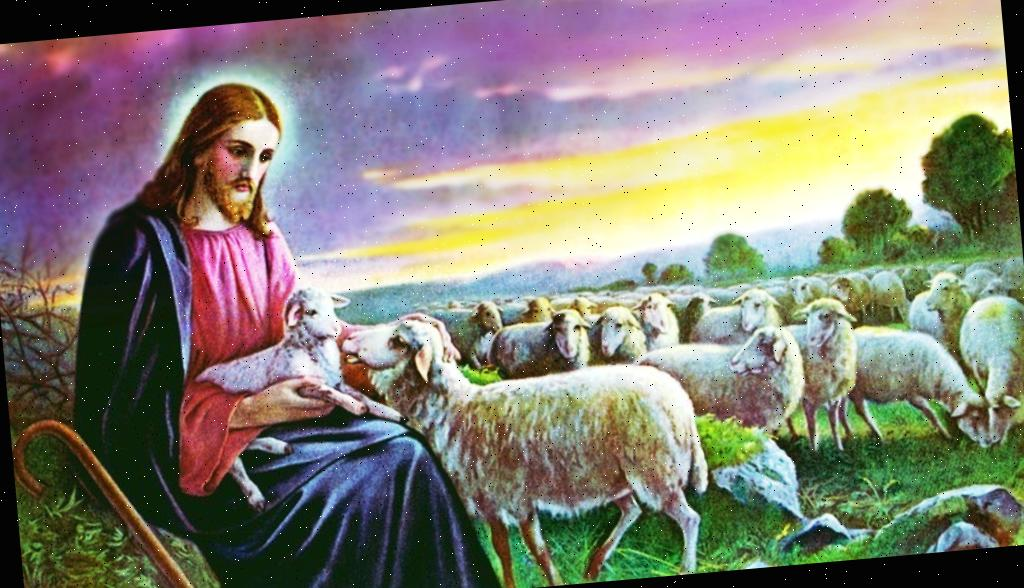Sheep: (339, 288, 711, 568), (185, 276, 415, 526), (668, 307, 814, 436), (854, 324, 994, 449), (953, 291, 1024, 443), (786, 294, 866, 428), (482, 302, 592, 384), (904, 269, 978, 360), (688, 286, 786, 346), (426, 299, 498, 373), (586, 302, 650, 366), (628, 290, 684, 352), (864, 268, 912, 325), (825, 271, 874, 326), (959, 264, 1008, 304), (894, 264, 934, 296), (674, 290, 717, 317), (518, 295, 556, 324), (800, 273, 830, 303), (856, 266, 896, 288), (496, 298, 530, 320), (568, 294, 598, 317)
